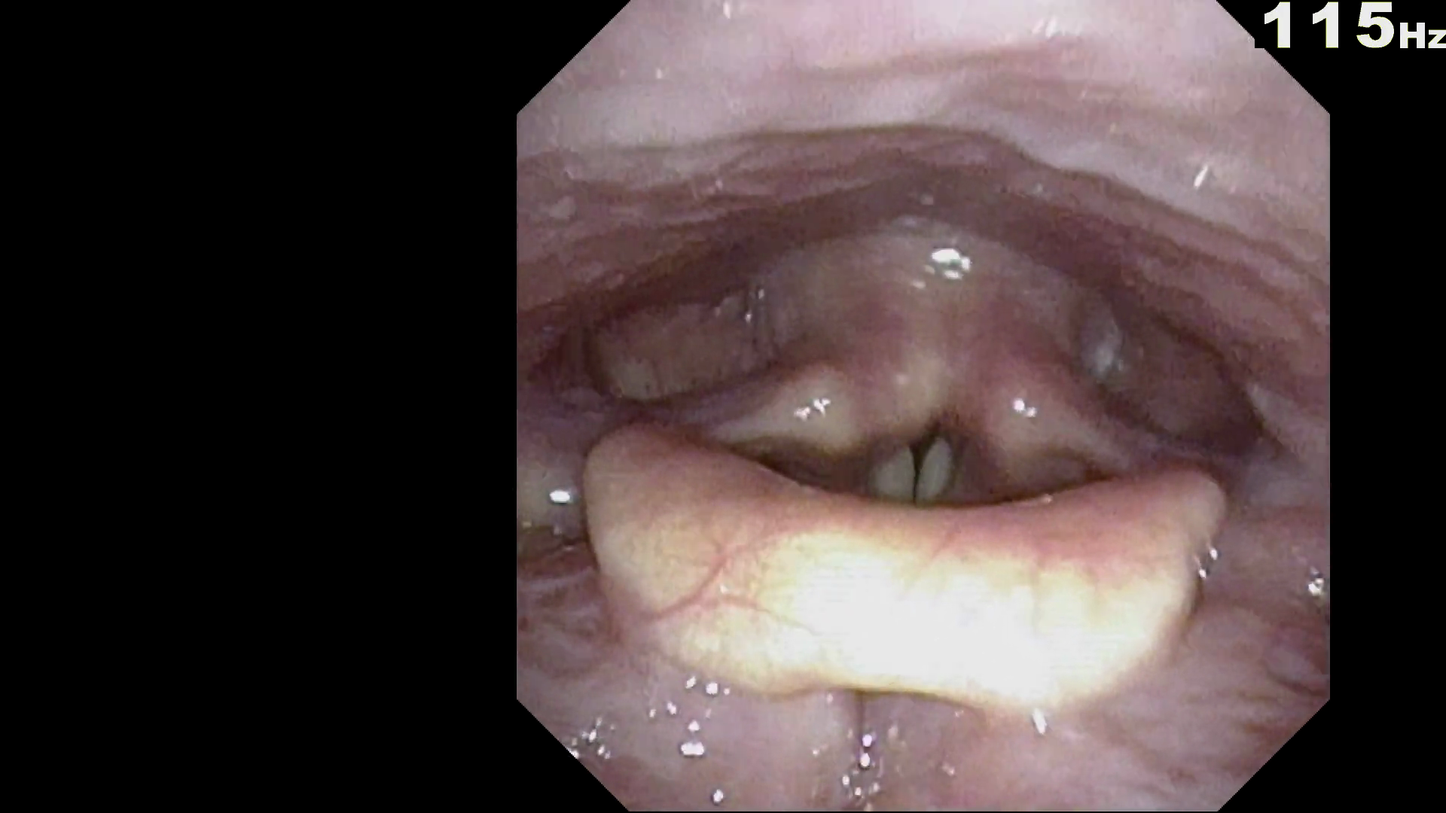epiglottis: (553, 352, 1281, 715)
trachea: (834, 347, 1012, 572)
